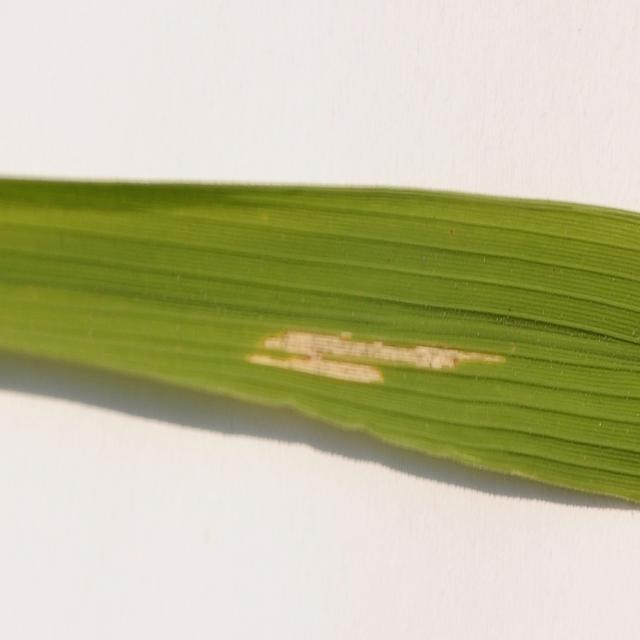leaf blight: (236, 308, 511, 412)
